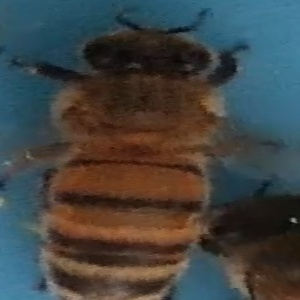bee: (30, 4, 217, 300)
